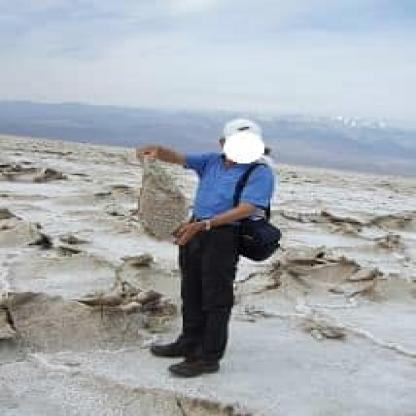person: (118, 104, 286, 381)
